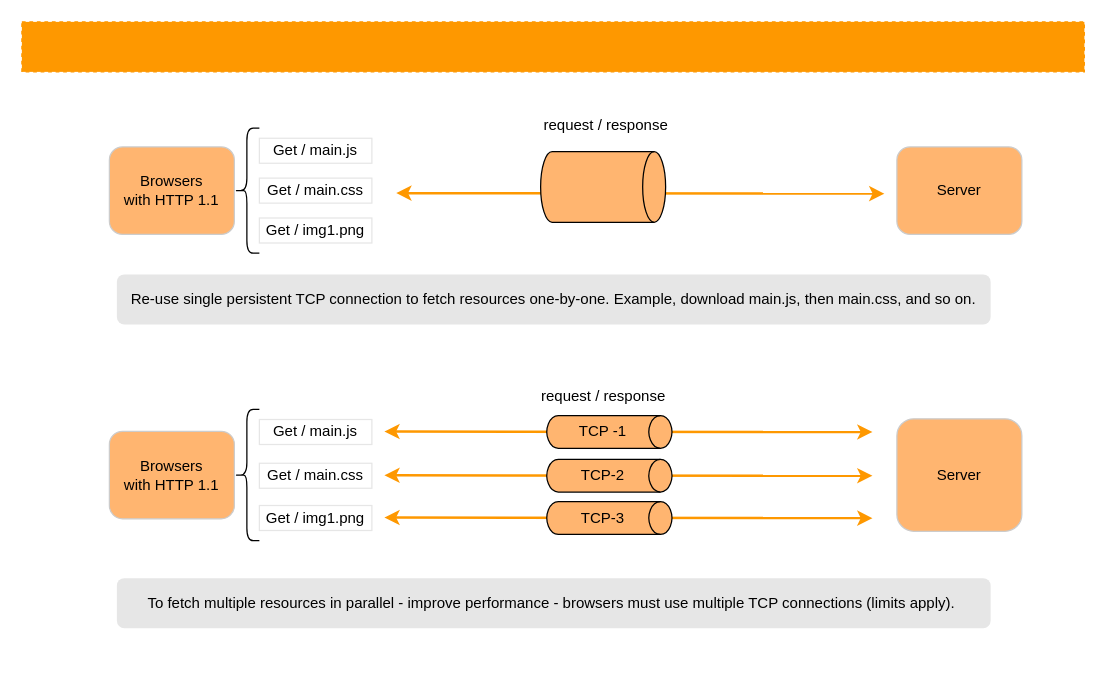
The diagram is 1106 pixels wide and 679 high, and some of its shapes have lost their labels. The box of each missing label's shape, as (x1, y1, x2, y2) in pixels:
HTTP 1.1: (21, 21, 1084, 72)
TCP: (539, 150, 666, 222)
